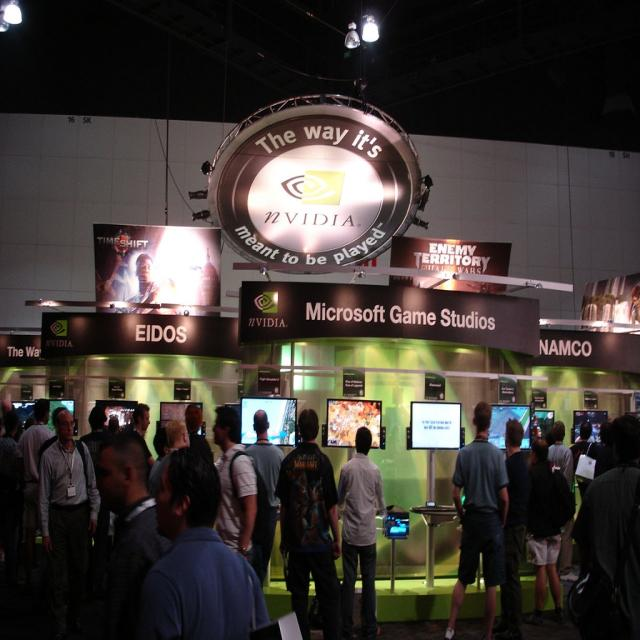nvidia: (281, 169, 348, 209), (254, 291, 279, 314), (51, 321, 69, 337)
